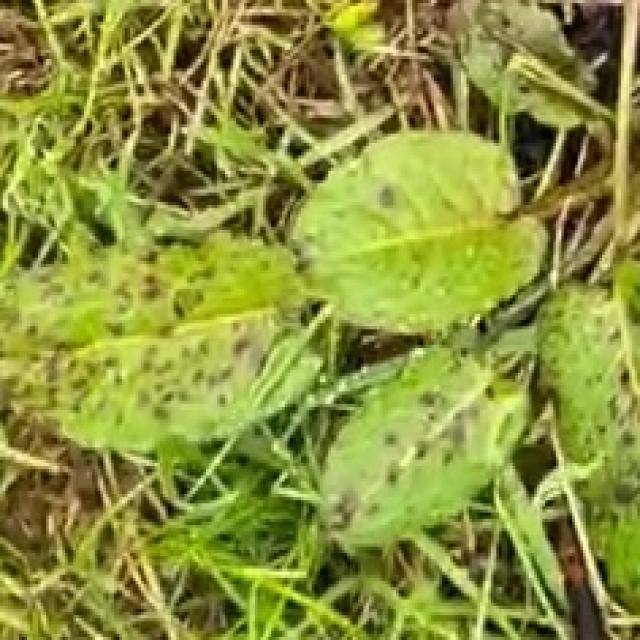organic waste: (2, 80, 640, 553)
